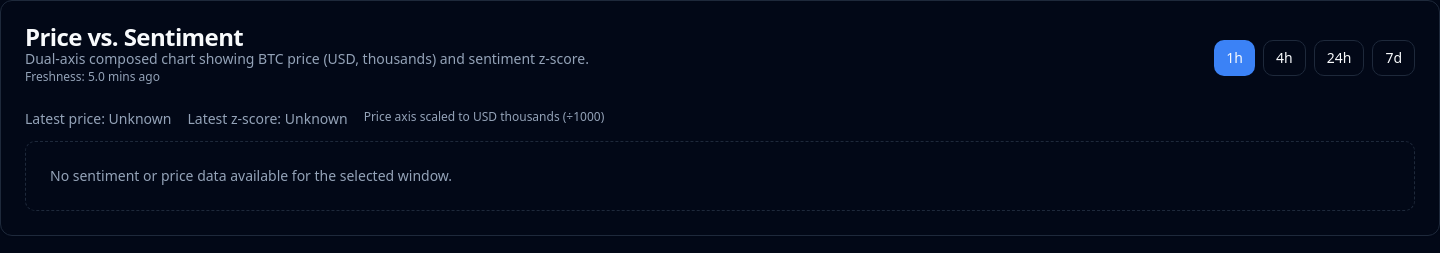
SentimentPriceChart › handles empty and error states gracefully
The image size is (1440, 253).
Expected: the text "No sentiment or price data available for the selected window." is shown, [25,141,1415,211]
Click the button "4h": (1284,58) [1263,40,1306,76]
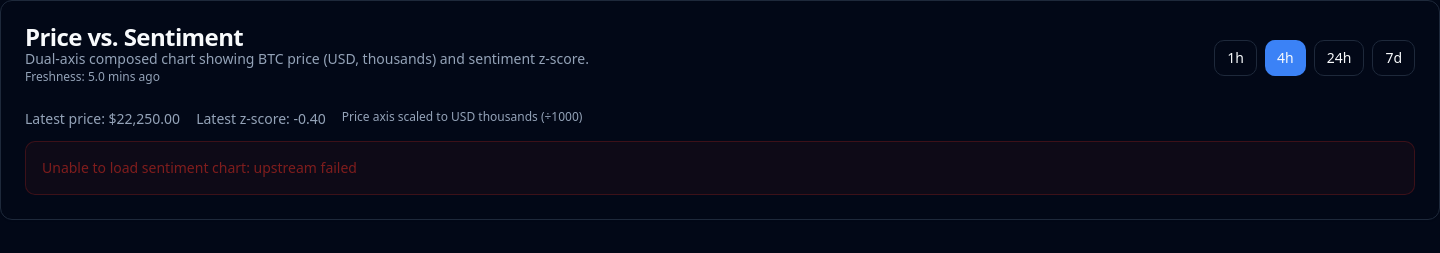
Result: the message labelled "Unable to load sentiment chart: upstream failed" is shown at [25,141,1415,195]
